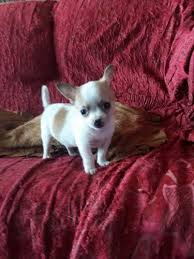chihuahua: (25, 54, 129, 188)
